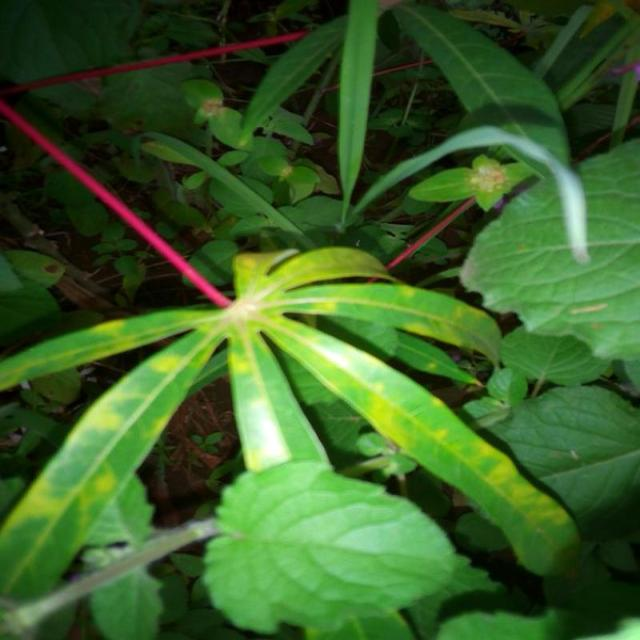cassava leaf: (2, 242, 583, 635), (202, 458, 458, 636), (460, 136, 640, 362)
